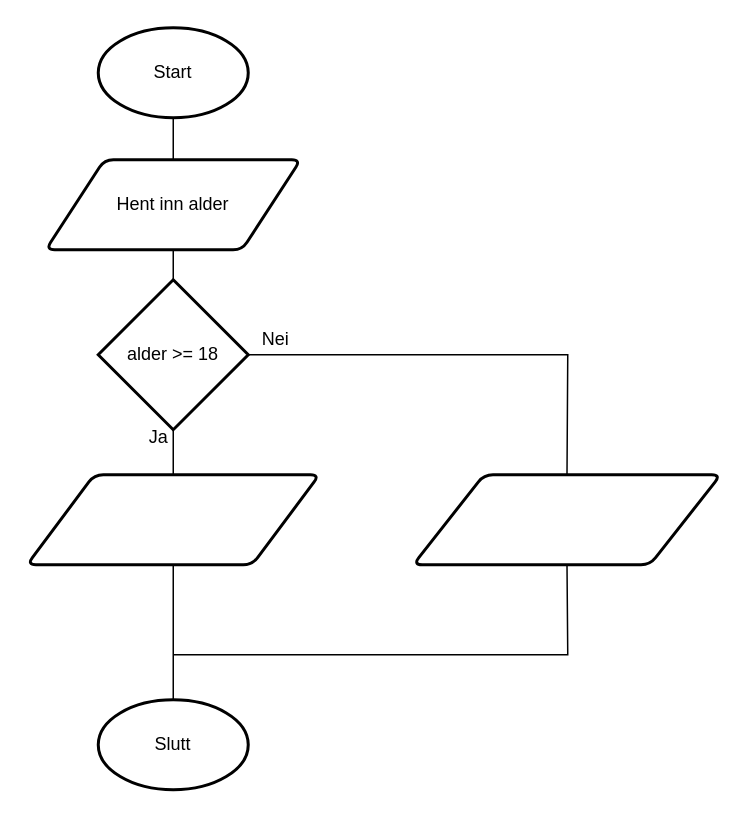
The diagram is 749 pixels wide and 816 high, and some of its shapes have lost their labels. Here are the shapes that lost their labels. From the top down, the box of each, then its label:
(25, 472, 320, 566): Print "Du kan ta lappen"
(411, 472, 722, 566): Print "Du kan ikke ta lappen"
